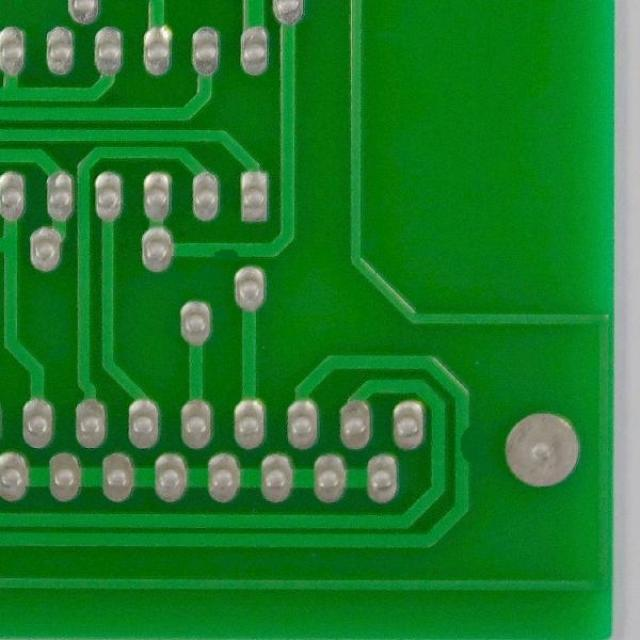MouseBite: (450, 420, 475, 470), (207, 237, 245, 260)
